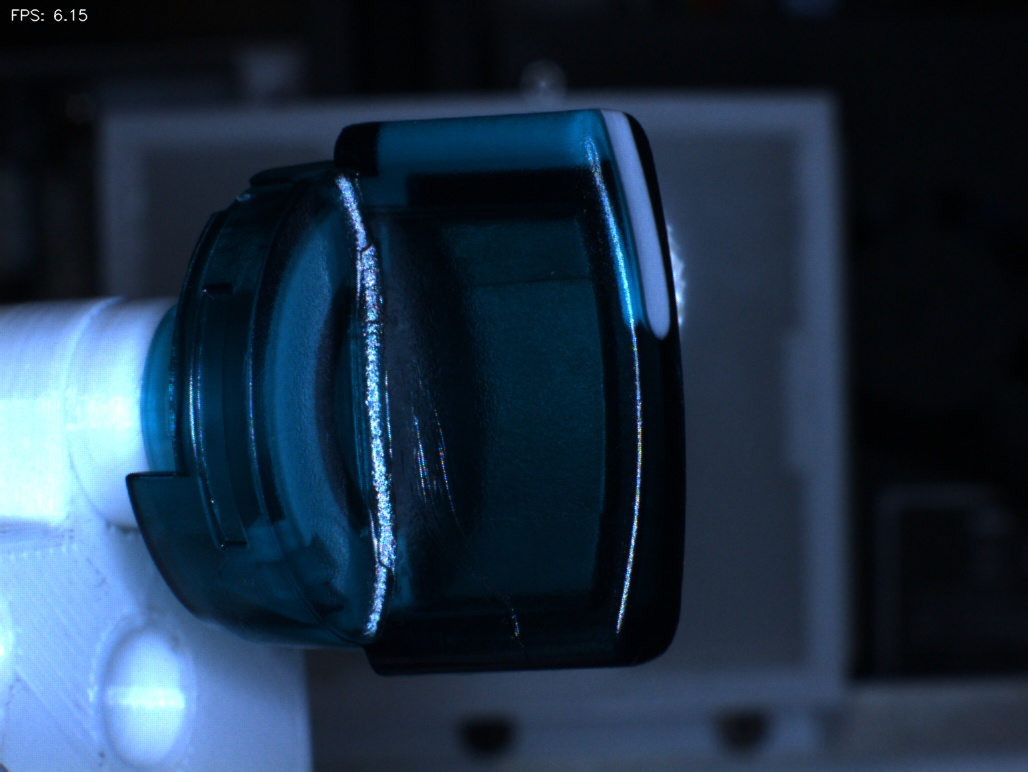Givrage: (404, 514, 537, 642), (389, 338, 487, 509)
